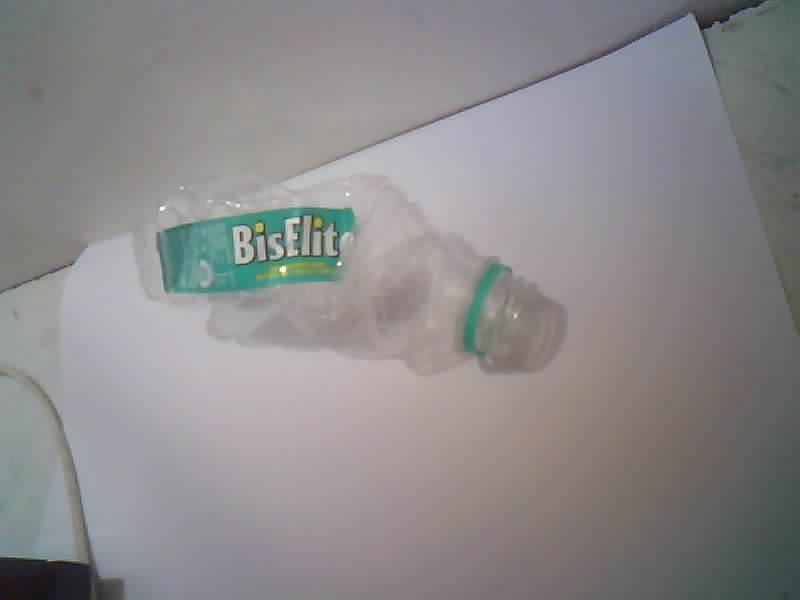non-biodegradable: (133, 174, 566, 373)
